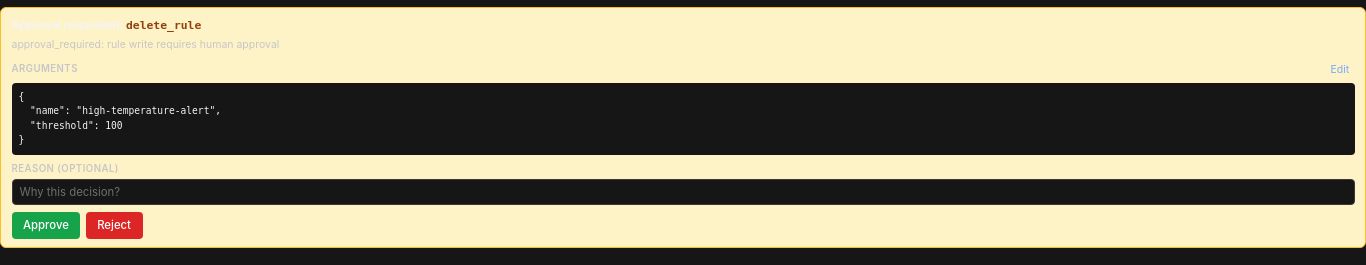
PendingApprovalSection › rendering › aria-label tracks in-flight verb (WCAG 2.5.3 Label-in-Name)
Click the button with test id "approval-approve". click: (46, 225)
box: [12, 212, 80, 239]
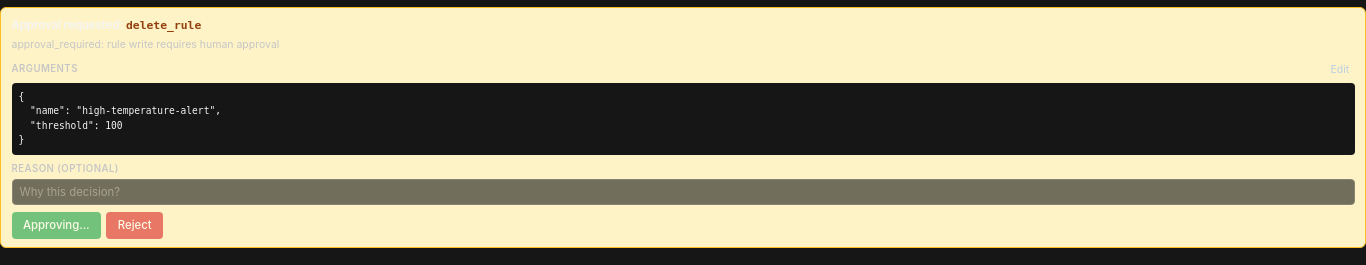
Now the button with test id "approval-approve" shows "Approving", box [12, 212, 101, 239]
